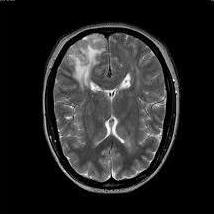Normal_Brain: (2, 1, 214, 214)
